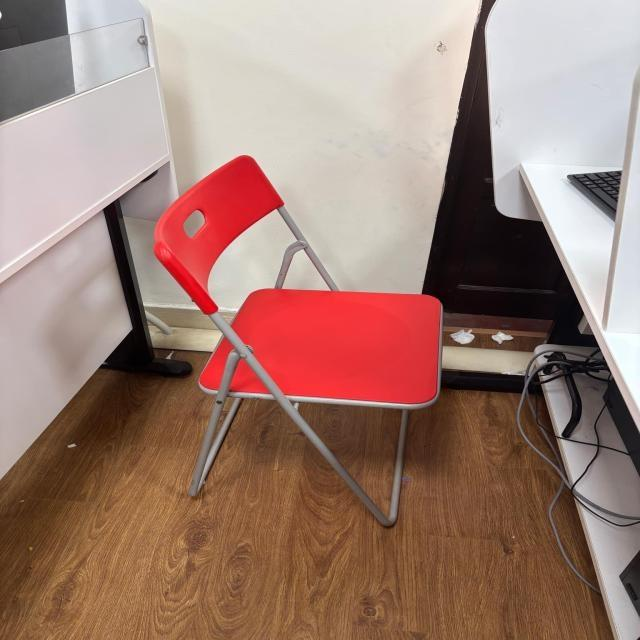obstacle: (152, 153, 444, 528)
